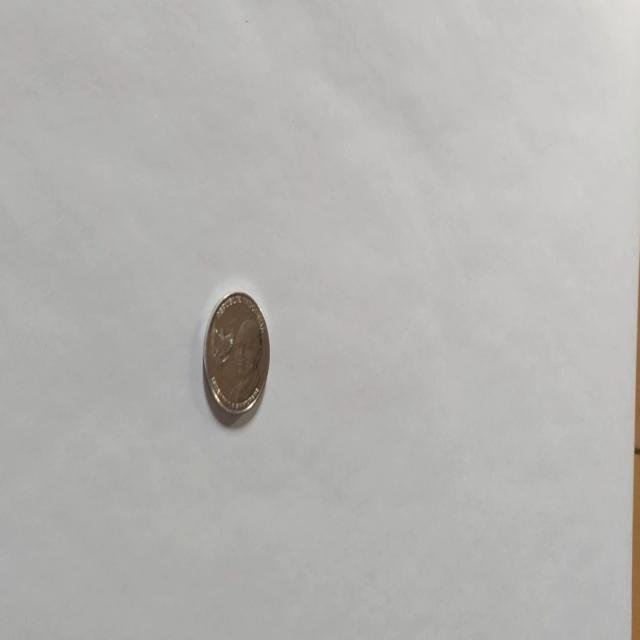lima ratus rupiah: (202, 290, 270, 417)
